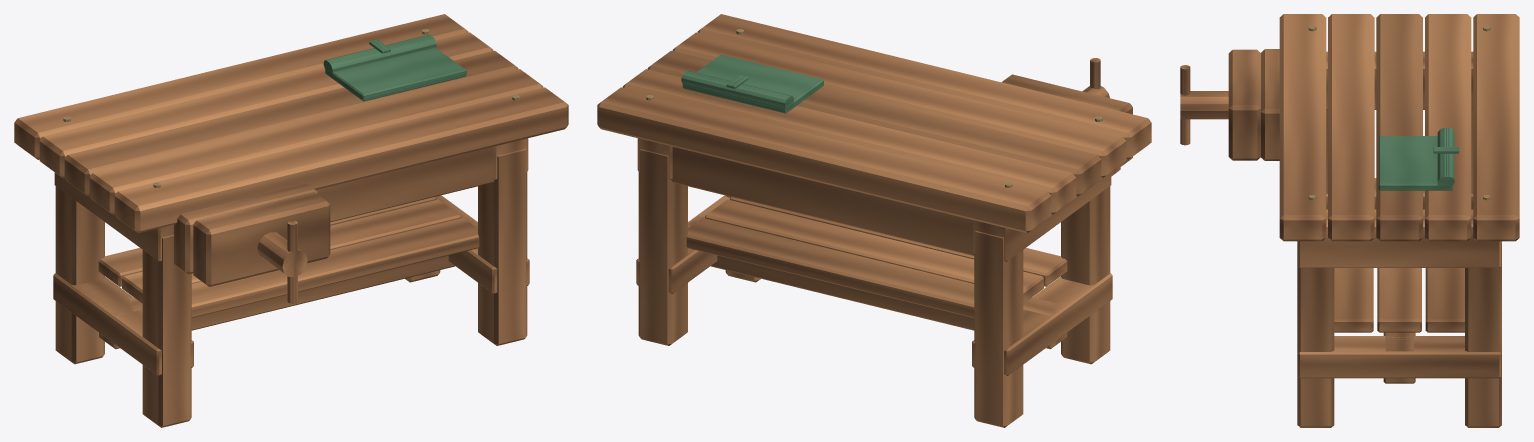
Rendered from town_shared_workbench_v01.glb.
3 views of the same model, side by side, from view 1: azimuth 30°, elevation 25°; view 2: azimuth 150°, elevation 25°; view 3: azimuth 270°, elevation 25° (orthographic). The views are drawn at different scales.
Parts seen in each view (by area): view 1: LOD0_Static, LOD0_MOVE_ViseJaw, LOD0_MOVE_ViseScrew, LOD0_MOVE_ViseHandle; view 2: LOD0_Static, LOD0_MOVE_ViseJaw; view 3: LOD0_Static, LOD0_MOVE_ViseJaw, LOD0_MOVE_ViseScrew, LOD0_MOVE_ViseHandle.
Boxes of the visible parts, left/top/right/bottom form: LOD0_Static: left=14, top=14, right=568, bottom=427; LOD0_MOVE_ViseJaw: left=193, top=192, right=330, bottom=286; LOD0_MOVE_ViseScrew: left=257, top=232, right=307, bottom=276; LOD0_MOVE_ViseHandle: left=287, top=220, right=297, bottom=303; LOD0_Static: left=597, top=14, right=1151, bottom=427; LOD0_MOVE_ViseJaw: left=1002, top=74, right=1132, bottom=166; LOD0_Static: left=1261, top=14, right=1519, bottom=427; LOD0_MOVE_ViseJaw: left=1228, top=49, right=1260, bottom=160; LOD0_MOVE_ViseScrew: left=1180, top=91, right=1228, bottom=119; LOD0_MOVE_ViseHandle: left=1180, top=65, right=1190, bottom=145.
Bounding box in the file's own units: 1.5 × 0.845 × 1.05.
3 materials, 3 textured.
